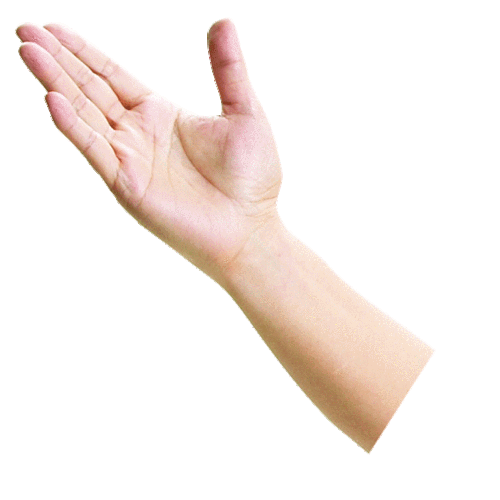no-phone: (11, 15, 288, 272)
